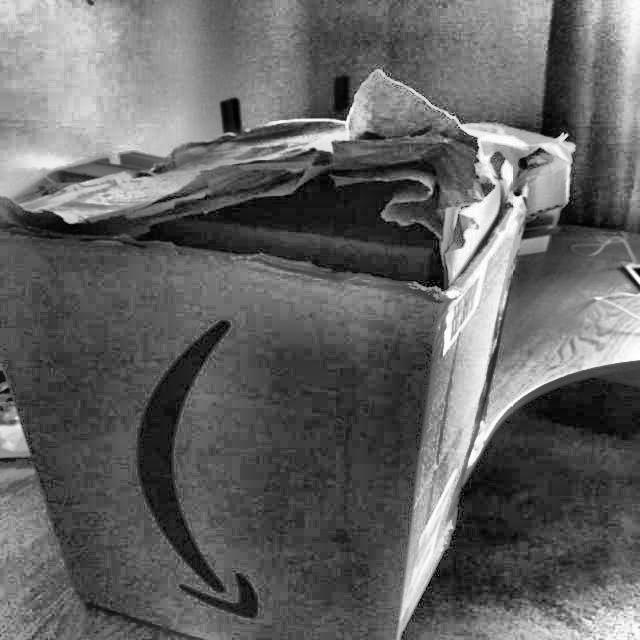box: (0, 63, 599, 639)
hole: (154, 136, 477, 328)
